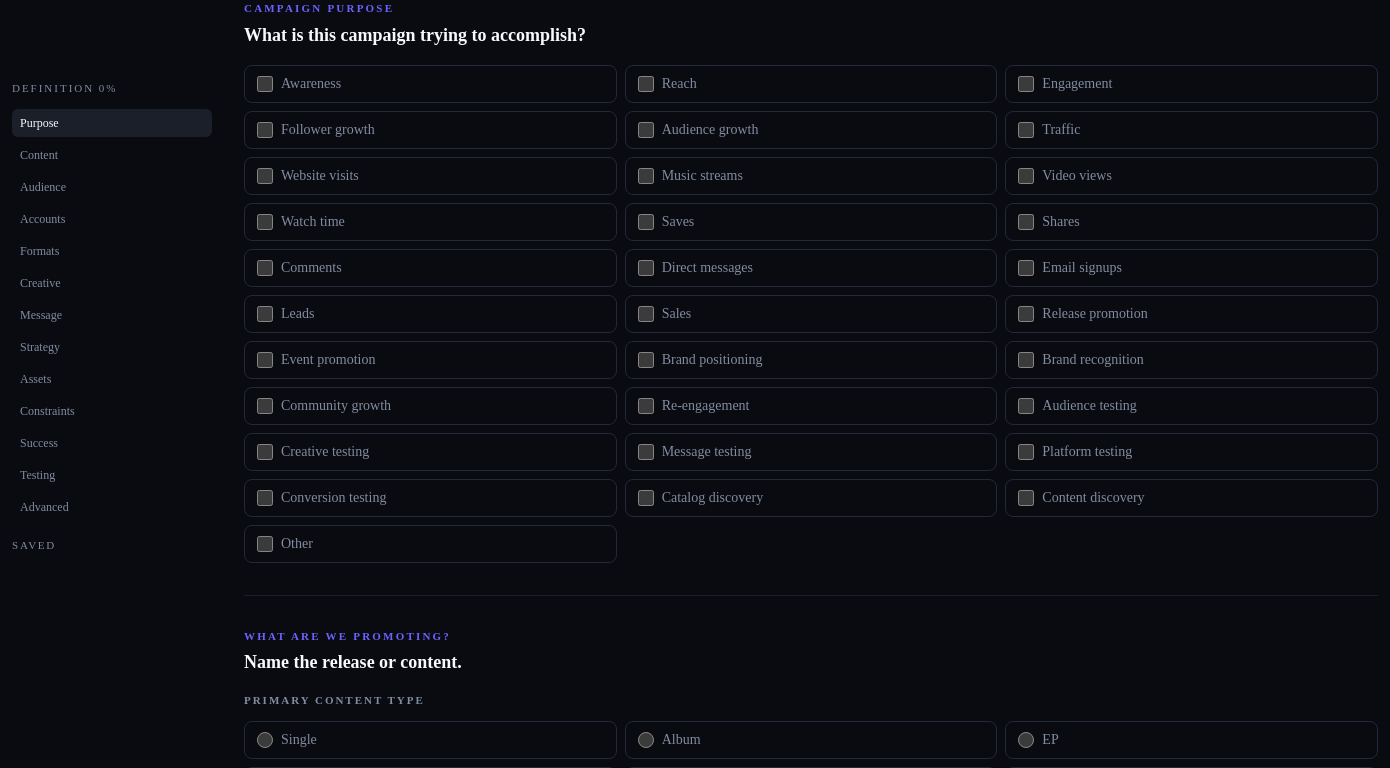
Test: structured intake › autosaves checkbox selections through the repository
What coordinates should you click on to do the following:
click the checkbox labelled "Release promotion"
I would click on:
 (1026, 314)
Its box is [1018,306,1034,322].
(page scrolled)
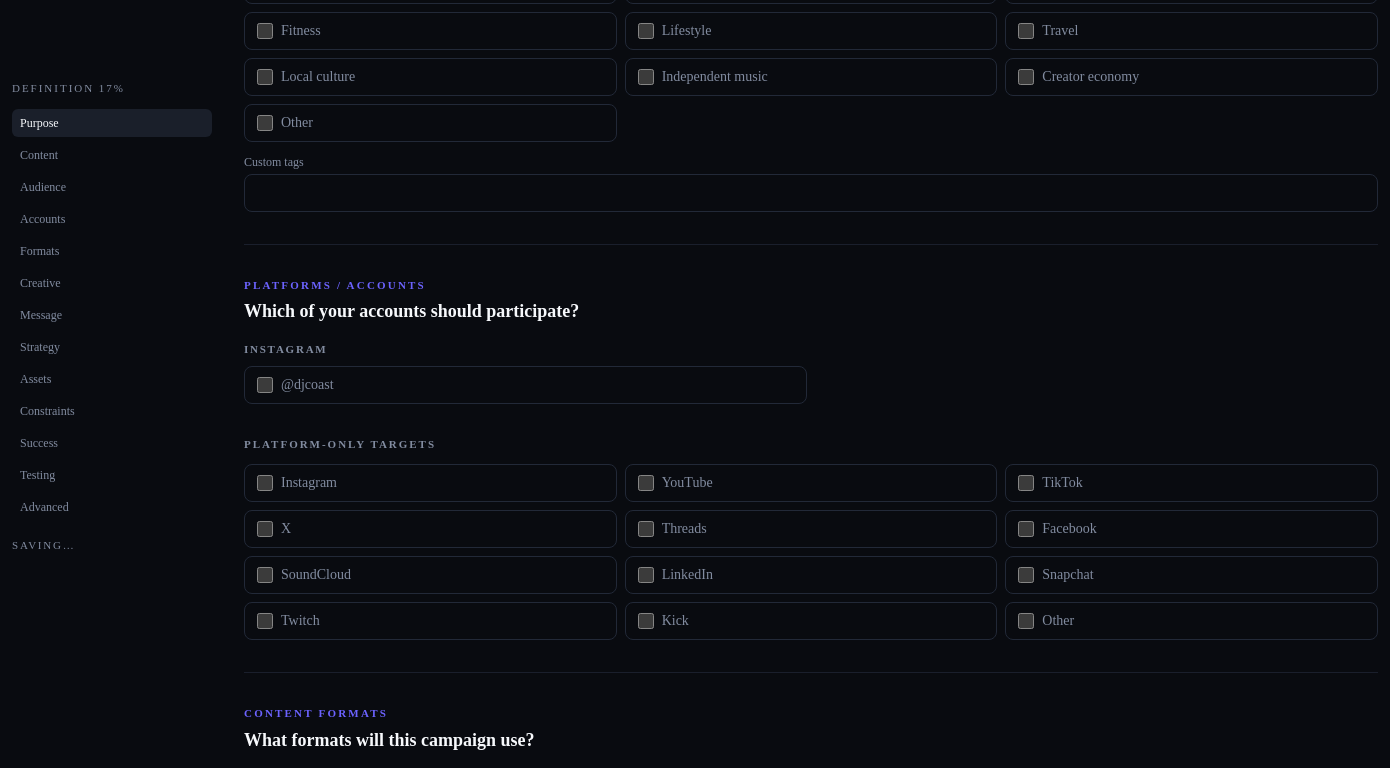
What coordinates should you click on to do the following:
click the checkbox labelled "@djcoast"
I would click on:
 (265, 384)
Its box is [257,376,273,392].
Wait 500 ms
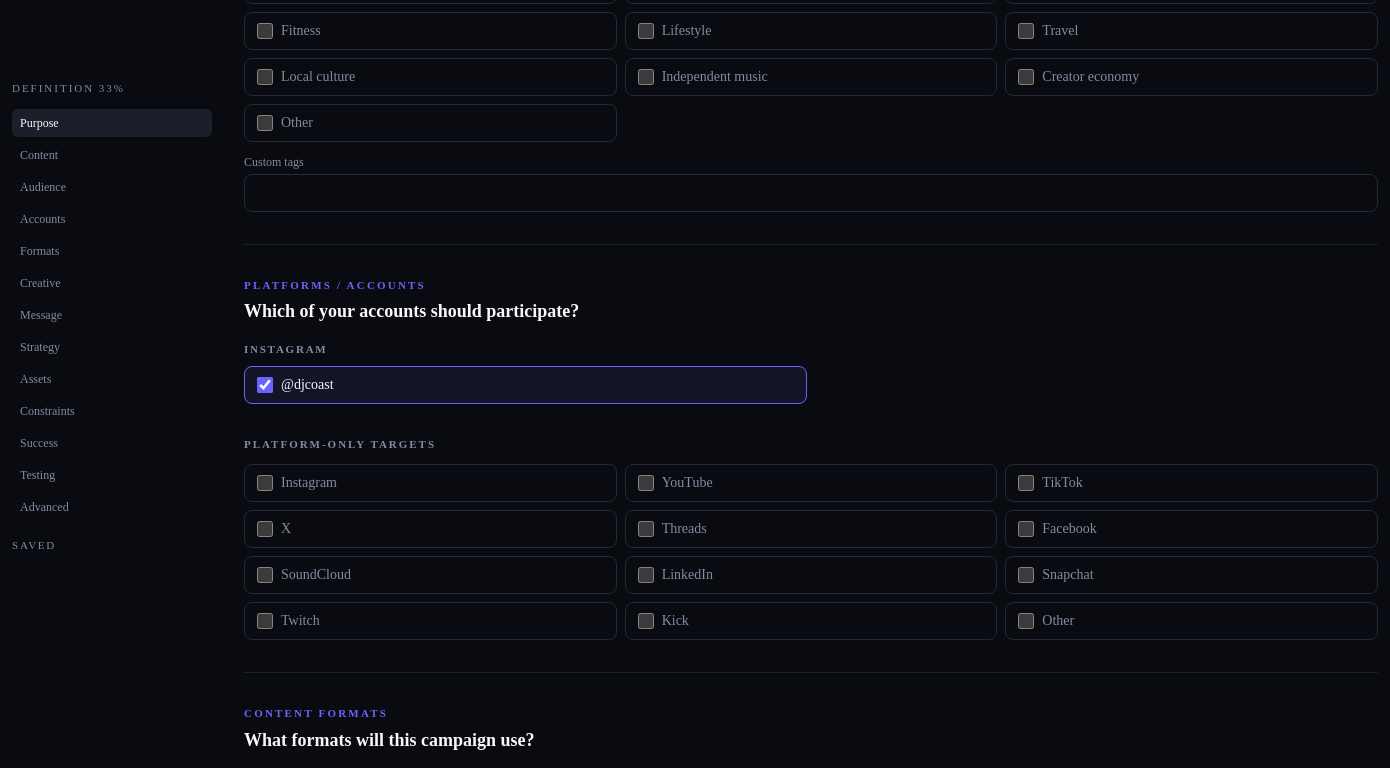
Check: the text "Saved" is shown, box [12,538,56,550]
